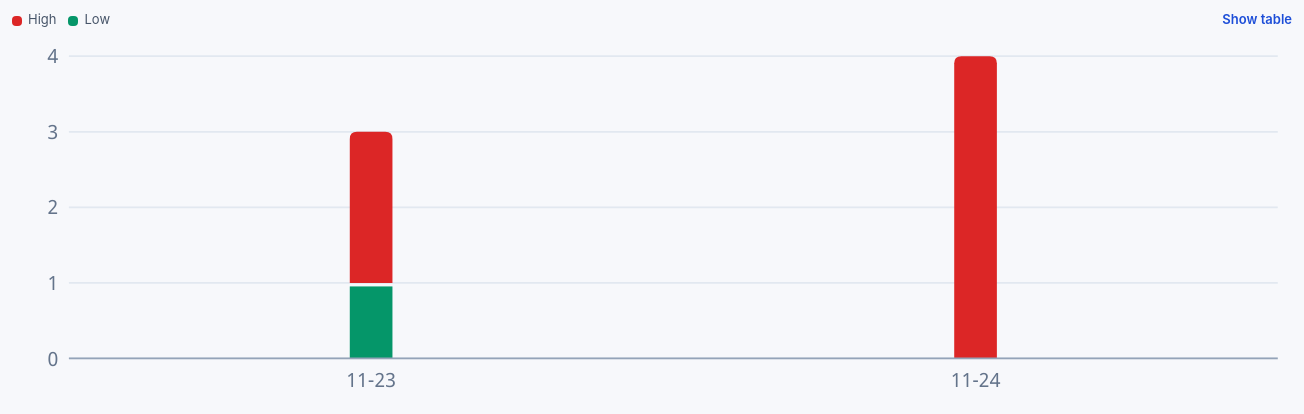
Scenario: StackedBars › has a legend, an accessible label per day, and a table view with totals
Expected: the list named "Legend" shows "High", top-left (28, 12), bottom-right (56, 29)
Expected: the field labelled "2026-11-24: Low 0, High 4" is shown, top-left (673, 56), bottom-right (1278, 358)
Click the button "Show table" at (1257, 21), box top-left (1222, 12), bottom-right (1292, 30)
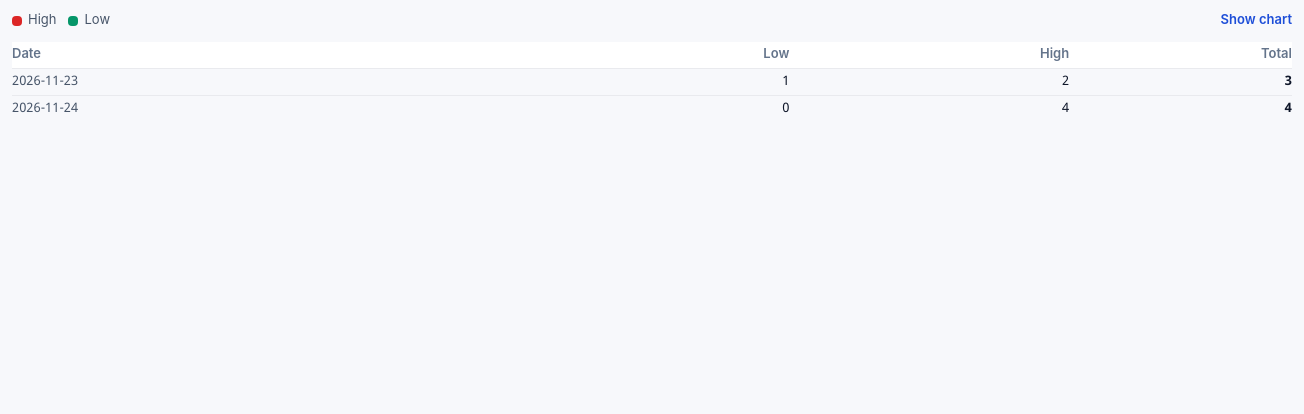
Result: the row "2026-11-23 1 2 3" is shown at top-left (12, 68), bottom-right (1292, 96)
Result: the row "2026-11-24 0 4 4" is shown at top-left (12, 96), bottom-right (1292, 122)
